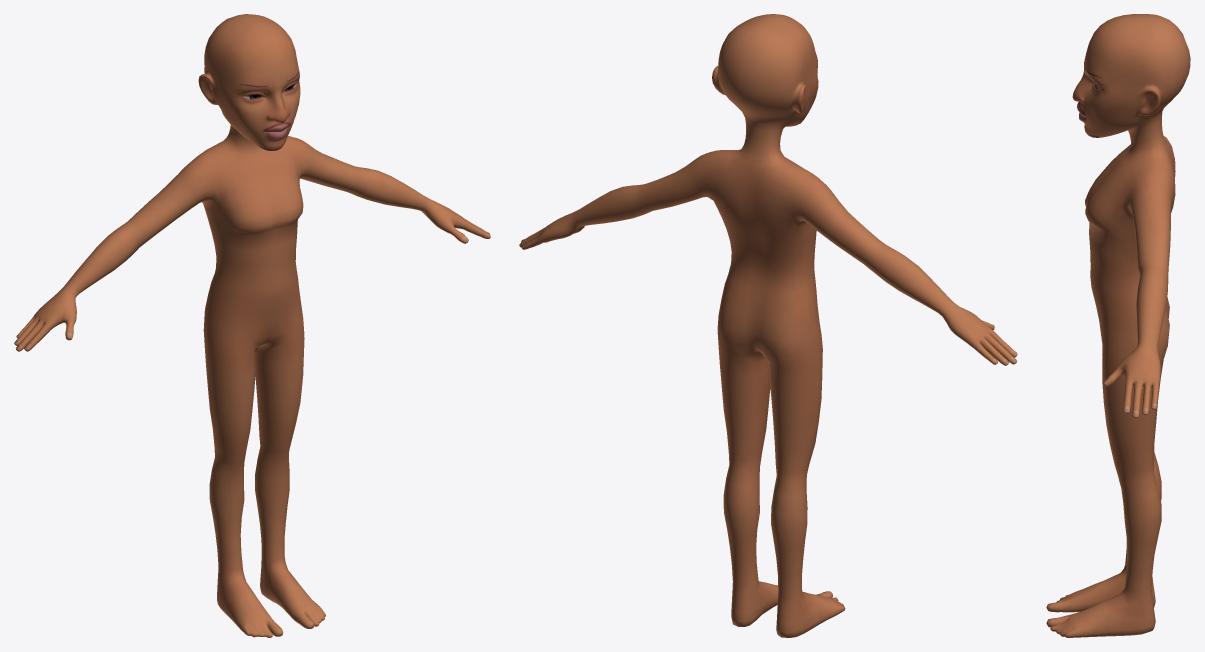
The model's file is frame_0043.glb.
3 views of the same model, side by side, from view 1: azimuth 30°, elevation 25°; view 2: azimuth 150°, elevation 25°; view 3: azimuth 270°, elevation 25° (orthographic). The views are drawn at different scales.
Parts seen in each view (by area): view 1: frame_0043_head_geo; view 2: frame_0043_head_geo; view 3: frame_0043_head_geo.
Part boxes in pixels (x1=…): frame_0043_head_geo: x1=14, y1=14, x2=490, y2=637; frame_0043_head_geo: x1=519, y1=14, x2=1017, y2=637; frame_0043_head_geo: x1=1046, y1=14, x2=1190, y2=637.
Size of the model in its own units: 1.28 by 1.5 by 0.3253.
Materials: 3 (3 with a texture image).
